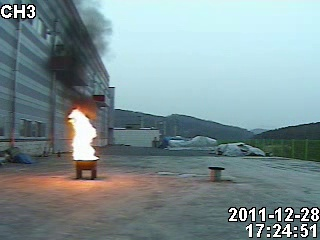fire: (66, 106, 97, 160)
